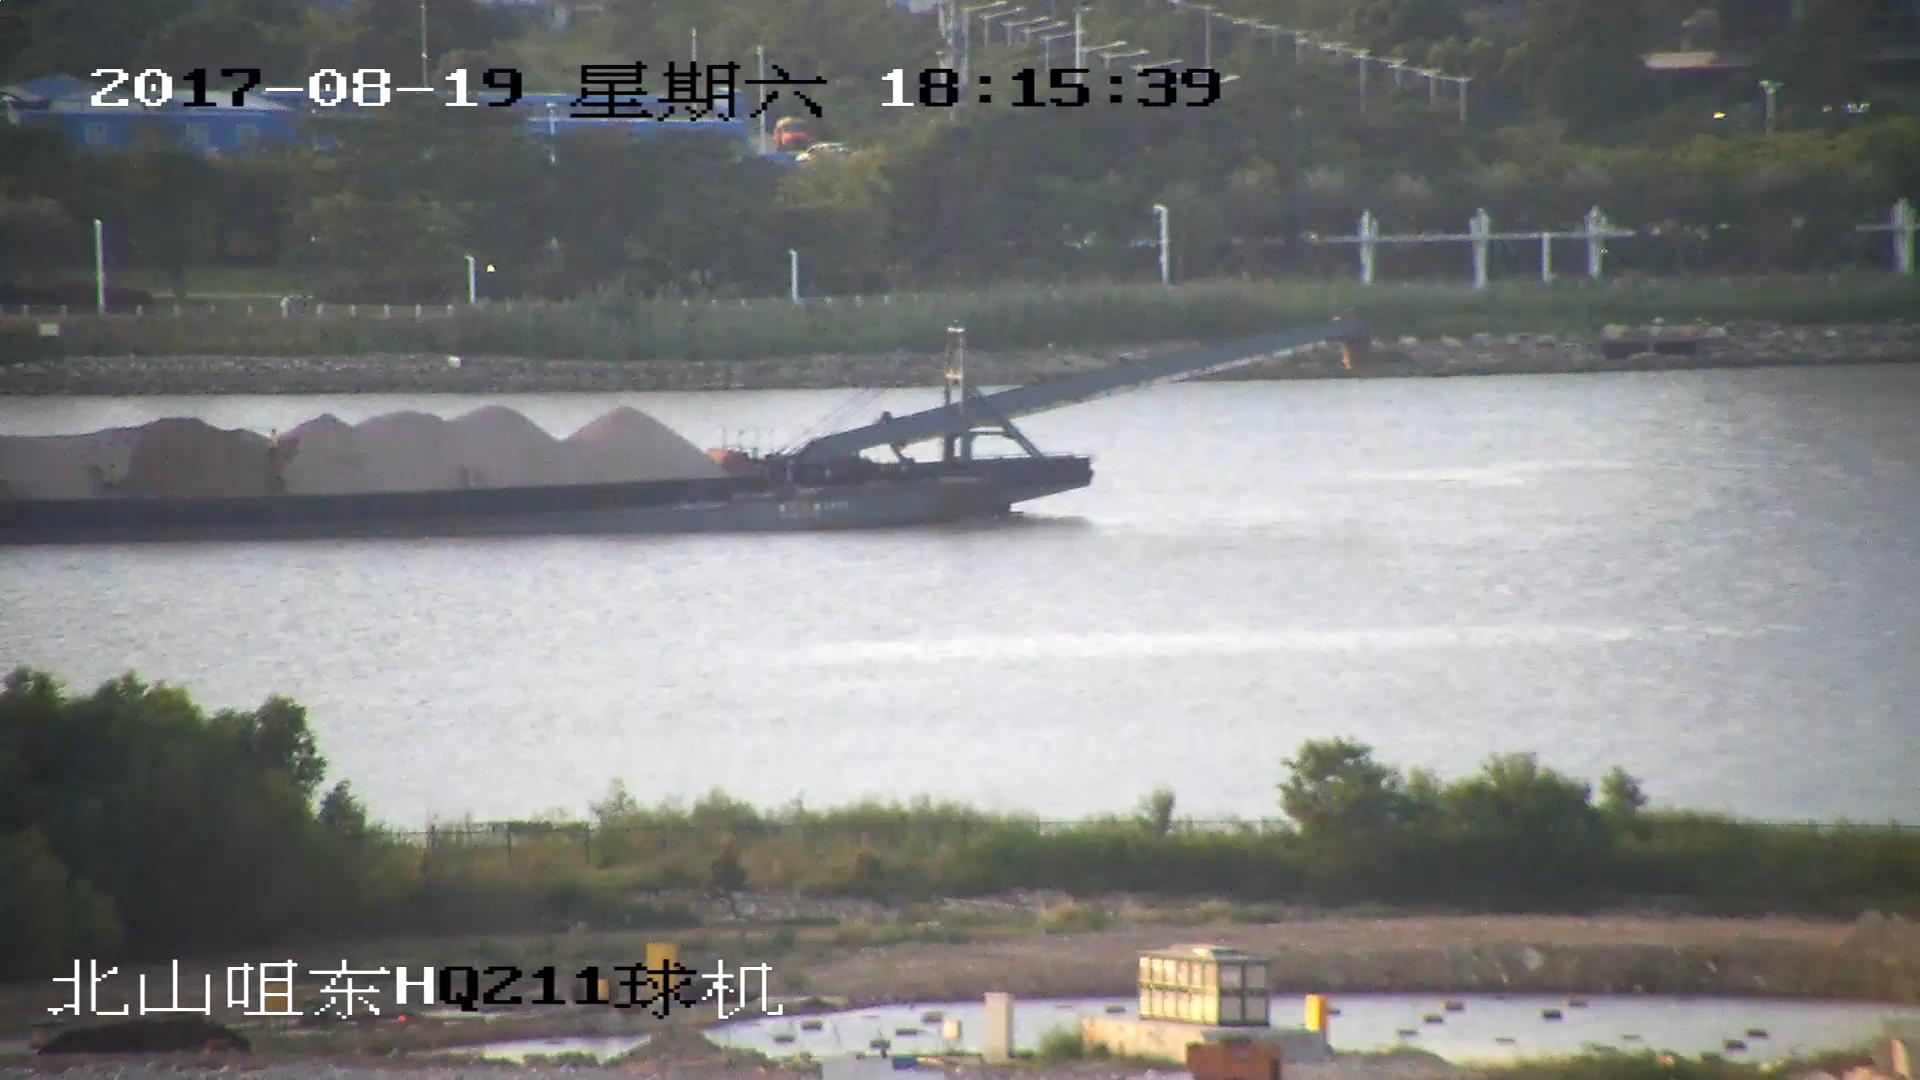ore carrier: (1, 309, 1362, 547)
